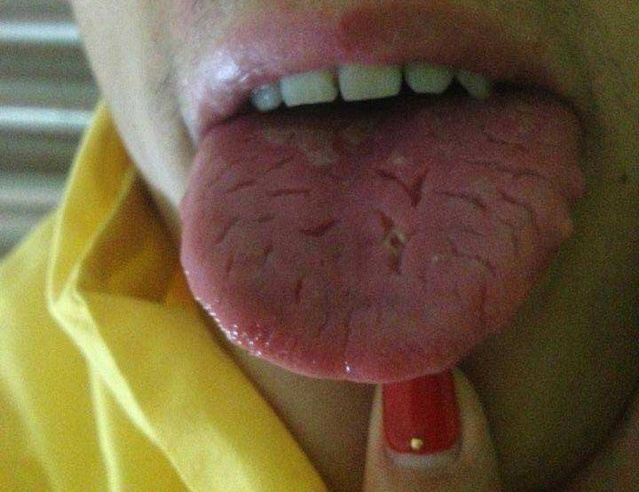hongshe: (180, 99, 580, 385)
liewenshe: (215, 146, 545, 278)
pangdashe: (180, 99, 580, 385)
